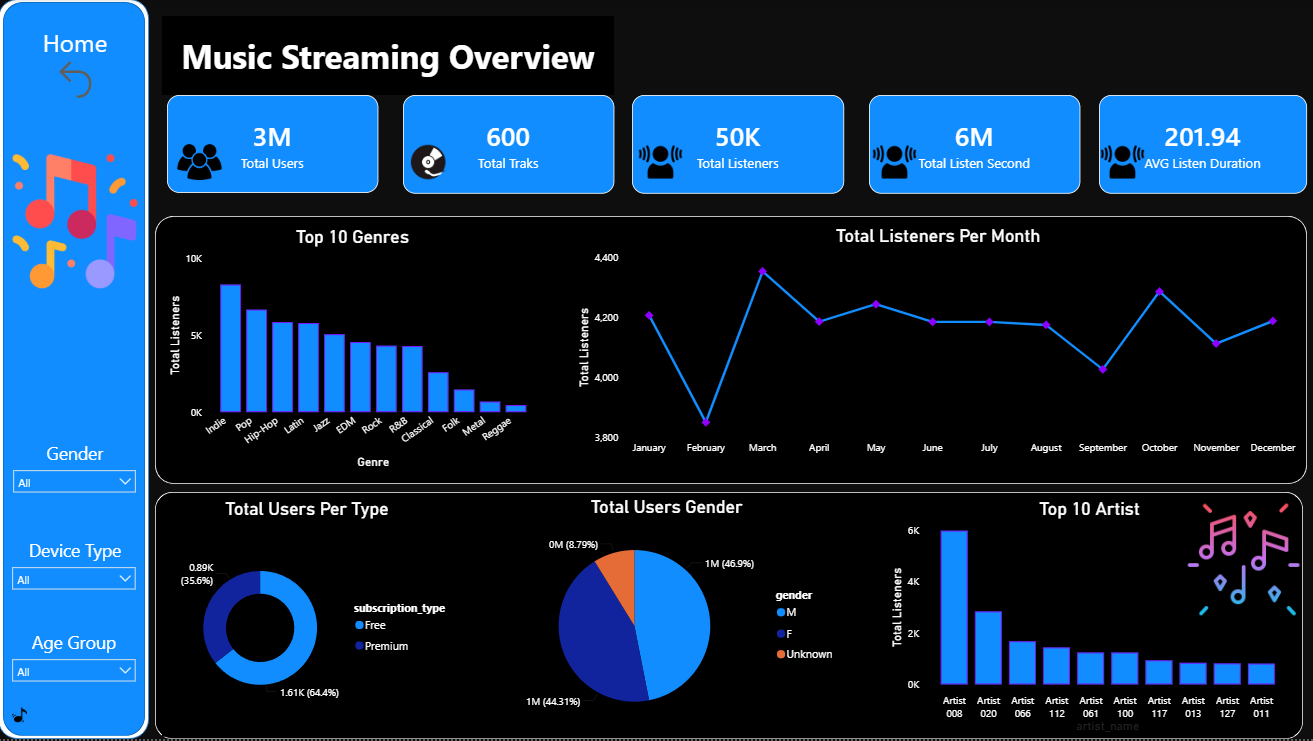

The page's visual inventory and layout, read from the dashboard file:
{"tool":"powerbi","page":{"name":"Overview","canvas":[1600,900],"ordinal":1},"visuals":[{"type":"cardVisual","fields":{"Data":["Sum(dim_user.user_id)"]},"box":[205.5,116.7,256.5,119.1],"z":0},{"type":"cardVisual","fields":{"Data":["CountNonNull(dim_track.track_id)"]},"box":[492.4,116.7,256.5,120.4],"z":1000},{"type":"cardVisual","fields":{"Data":["CountNonNull(fact_listens.listen_id)"]},"box":[770.8,116.7,257.8,120.4],"z":2000},{"type":"cardVisual","fields":{"Data":["Sum(fact_listens.listen_seconds)"]},"box":[1059,116.7,256.5,120.4],"z":3000},{"type":"cardVisual","fields":{"Data":["Avg(dim_track.duration_sec)"]},"box":[1338.6,116.7,252.9,120.4],"z":4000},{"type":"shape","box":[199.4,20.7,549.5,96],"z":5000},{"type":"shape","box":[0,0,183.6,899.7],"z":6000},{"type":"slicer","fields":{"Values":["dim_track.genre"]},"box":[10.9,792.7,153.2,52.3],"z":7000},{"type":"shape","box":[190.9,263.8,1400.6,325.8],"z":8000},{"type":"clusteredColumnChart","title":"Top 10 Genres","fields":{"Y":["CountNonNull(fact_listens.listen_id)"],"Category":["dim_track.genre"]},"box":[202.1,277.5,458.4,299.1],"z":9000},{"type":"lineChart","title":"Total Listeners Per Month","fields":{"Category":["dim_date.month_name"],"Y":["CountNonNull(fact_listens.listen_id)"]},"box":[699.1,276,887.5,300.3],"z":10000},{"type":"shape","box":[6.1,3.6,172.6,892.4],"z":11000},{"type":"slicer","fields":{"Values":["dim_user.age_group"]},"box":[7.3,792.7,170.2,52.3],"z":12000},{"type":"slicer","fields":{"Values":["dim_user.gender"]},"box":[8.5,562.9,169,52.3],"z":13000},{"type":"slicer","fields":{"Values":["dim_geo.country"]},"box":[7.3,680.9,170.2,52.3],"z":14000},{"type":"shape","box":[18.2,763.5,148.3,36.5],"z":15000},{"type":"shape","box":[19.5,533.7,148.3,36.5],"z":16000},{"type":"shape","box":[19.5,651.7,148.3,36.5],"z":17000},{"type":"image","box":[0,841.3,52.3,58.4],"z":18000},{"type":"shape","box":[190.9,599.4,1395.7,300.3],"z":19000},{"type":"donutChart","title":"Total Users Per Type","fields":{"Y":["CountNonNull(dim_user.user_id)"],"Category":["dim_user.subscription_type"]},"box":[199.4,607.9,352.6,289.4],"z":20000},{"type":"clusteredColumnChart","title":"Top 10 Artist","fields":{"Y":["CountNonNull(fact_listens.listen_id)"],"Category":["dim_track.artist_name"]},"box":[1079.6,607.9,494.8,289.4],"z":21000},{"type":"shape","box":[19.5,32.8,148.3,36.5],"z":22000},{"type":"pieChart","title":"Total Users Gender","fields":{"Y":["Sum(dim_user.user_id)"],"Category":["dim_user.gender"]},"box":[597,605.5,431.6,289.4],"z":23000},{"type":"actionButton","box":[65.7,69.3,99.7,57.1],"z":24000},{"type":"image","box":[205.5,170.2,79,55.9],"z":25000},{"type":"image","box":[462,150.8,122.8,94.8],"z":26000},{"type":"image","box":[766,170.2,79,55.9],"z":27000},{"type":"image","box":[1050.5,170.2,79,55.9],"z":28000},{"type":"image","box":[1327.7,170.2,79,55.9],"z":29000},{"type":"image","box":[1441.9,607.9,144.7,147.1],"z":30000},{"type":"image","box":[12.2,150.8,162.9,239.5],"z":31000}]}

Visuals, with their boxes in screenshot pixels (x1, y1, x2, y2), scaled from the page's 1600x900 canvas onto the 1313x741 screenshot:
cardVisual - Sum(dim_user.user_id): [left=169, top=96, right=379, bottom=194]
cardVisual - CountNonNull(dim_track.track_id): [left=404, top=96, right=615, bottom=195]
cardVisual - CountNonNull(fact_listens.listen_id): [left=633, top=96, right=844, bottom=195]
cardVisual - Sum(fact_listens.listen_seconds): [left=869, top=96, right=1080, bottom=195]
cardVisual - Avg(dim_track.duration_sec): [left=1098, top=96, right=1306, bottom=195]
shape: [left=164, top=17, right=615, bottom=96]
shape: [left=0, top=0, right=151, bottom=740]
slicer - dim_track.genre: [left=9, top=653, right=135, bottom=696]
shape: [left=157, top=217, right=1306, bottom=485]
"Top 10 Genres" clusteredColumnChart: [left=166, top=228, right=542, bottom=475]
"Total Listeners Per Month" lineChart: [left=574, top=227, right=1302, bottom=474]
shape: [left=5, top=3, right=147, bottom=738]
slicer - dim_user.age_group: [left=6, top=653, right=146, bottom=696]
slicer - dim_user.gender: [left=7, top=463, right=146, bottom=507]
slicer - dim_geo.country: [left=6, top=561, right=146, bottom=604]
shape: [left=15, top=629, right=137, bottom=659]
shape: [left=16, top=439, right=138, bottom=469]
shape: [left=16, top=537, right=138, bottom=567]
image: [left=0, top=693, right=43, bottom=740]
shape: [left=157, top=494, right=1302, bottom=740]
"Total Users Per Type" donutChart: [left=164, top=501, right=453, bottom=739]
"Top 10 Artist" clusteredColumnChart: [left=886, top=501, right=1292, bottom=739]
shape: [left=16, top=27, right=138, bottom=57]
"Total Users Gender" pieChart: [left=490, top=499, right=844, bottom=737]
actionButton: [left=54, top=57, right=136, bottom=104]
image: [left=169, top=140, right=233, bottom=186]
image: [left=379, top=124, right=480, bottom=202]
image: [left=629, top=140, right=693, bottom=186]
image: [left=862, top=140, right=927, bottom=186]
image: [left=1090, top=140, right=1154, bottom=186]
image: [left=1183, top=501, right=1302, bottom=622]
image: [left=10, top=124, right=144, bottom=321]
